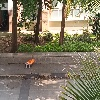fire: (27, 58, 35, 64)
